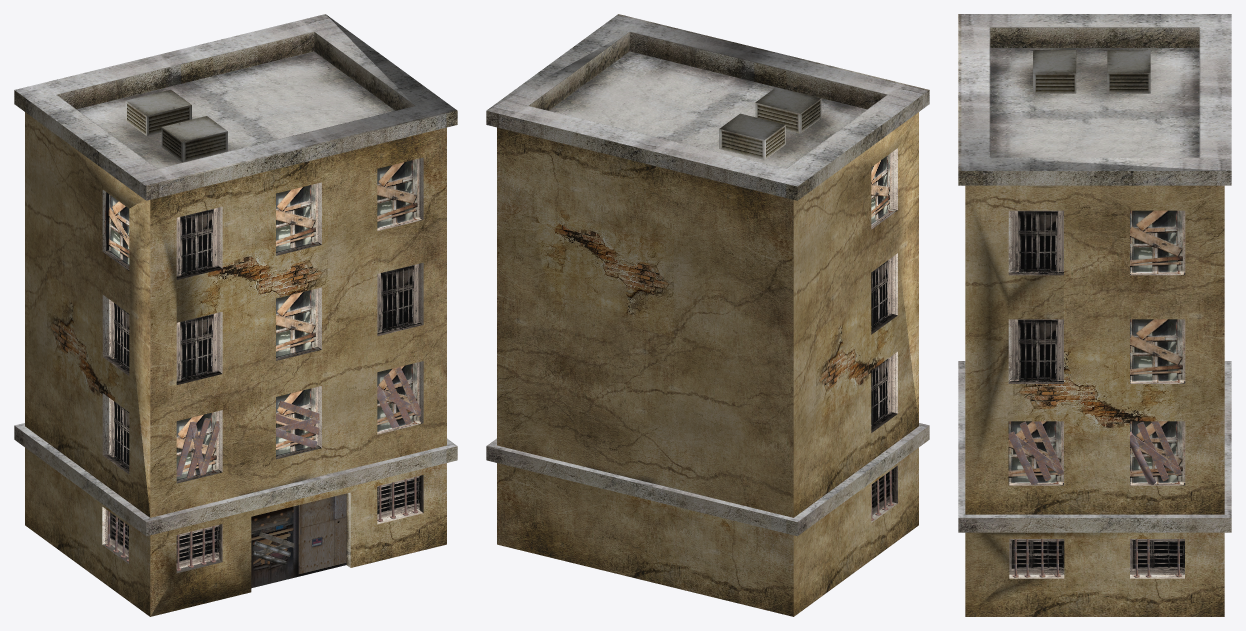
Rendered from Big_house_High.FBX.
3 views of the same model, side by side, from view 1: azimuth 30°, elevation 25°; view 2: azimuth 150°, elevation 25°; view 3: azimuth 270°, elevation 25° (orthographic). The views are drawn at different scales.
Parts seen in each view (by area): view 1: Box02, Old_DoorPlank_006, Old_DoorPlank_01; view 2: Box02; view 3: Box02, Old_DoorPlank_006.
Boxes of the visible parts, bbox=[...] form: Box02: bbox=[14, 14, 457, 616]; Old_DoorPlank_006: bbox=[105, 367, 420, 571]; Old_DoorPlank_01: bbox=[252, 532, 294, 565]; Box02: bbox=[486, 14, 929, 616]; Box02: bbox=[958, 14, 1231, 616]; Old_DoorPlank_006: bbox=[1008, 421, 1181, 577].
Bounding box in the file's own units: 89.78 × 120 × 66.
Materials: 3 (3 with a texture image).
